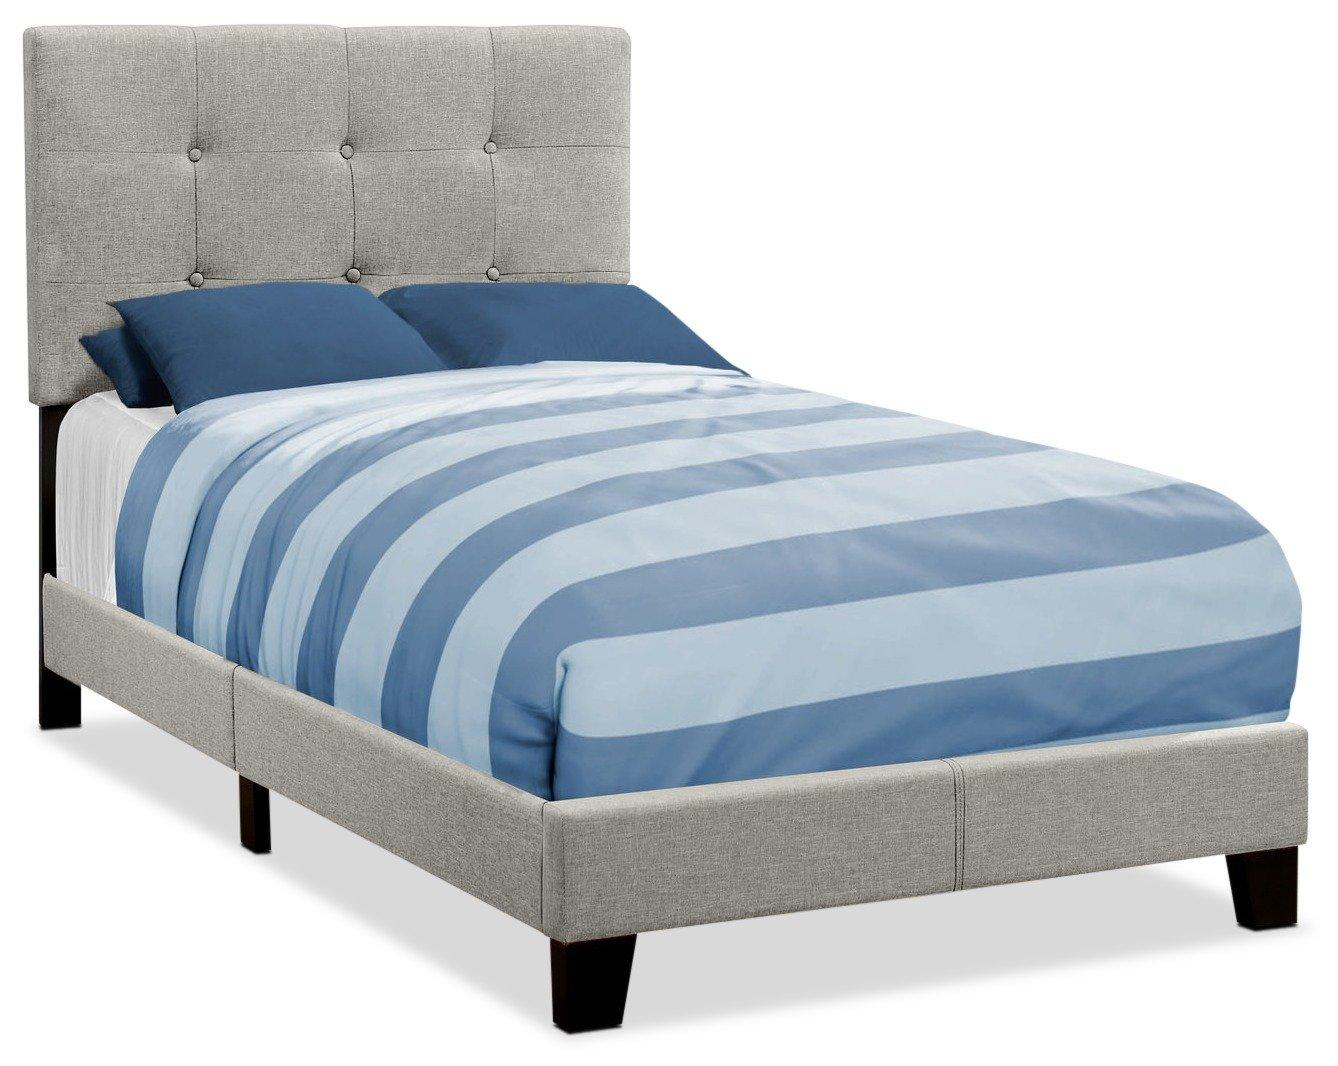bed: (0, 0, 1323, 913)
